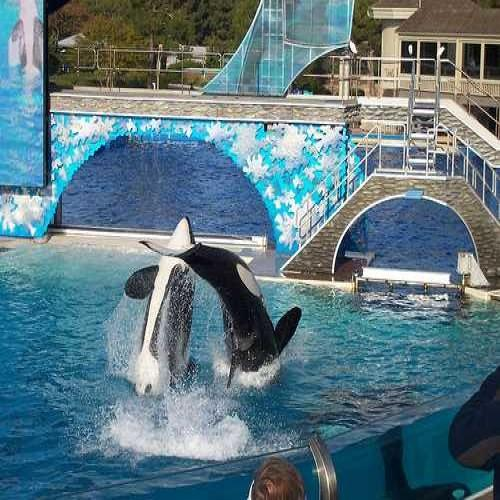killer_whale-endangered: (159, 232, 314, 389), (123, 206, 203, 391)
